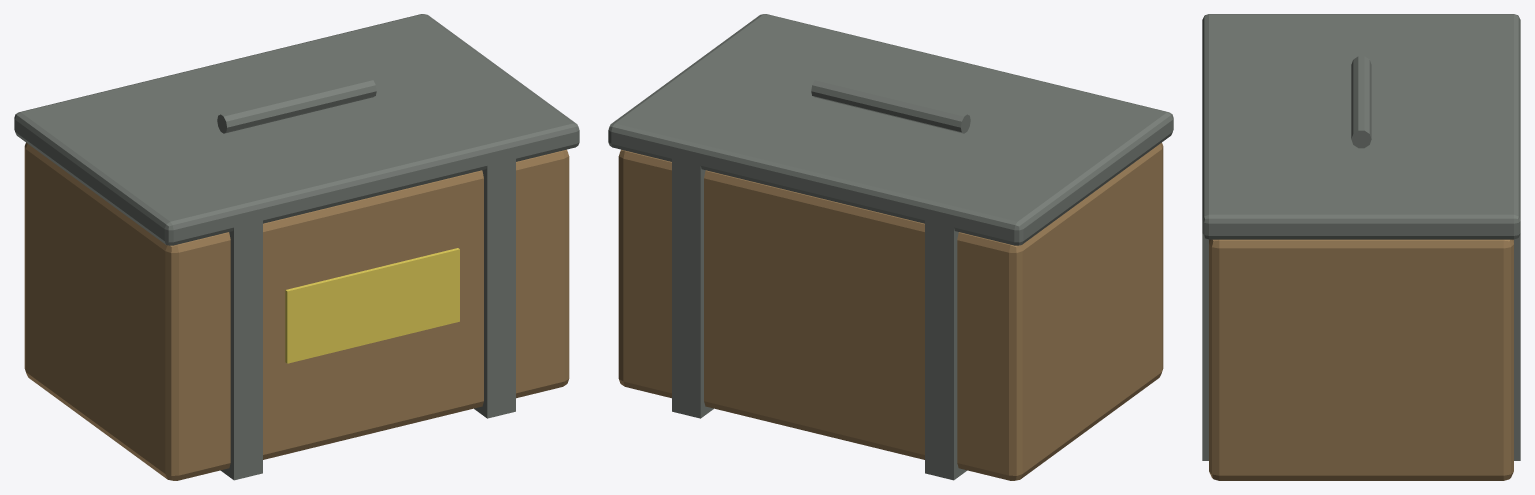
File: ammo_crate.glb
3 renders of one model, left to right at view 1: azimuth 30°, elevation 25°; view 2: azimuth 150°, elevation 25°; view 3: azimuth 270°, elevation 25°, orthographic.
Parts seen in each view (by area): view 1: ammo_crate; view 2: ammo_crate; view 3: ammo_crate.
Part boxes in pixels (x1,y1,x2,y2): ammo_crate: [14, 14, 579, 480]; ammo_crate: [608, 14, 1173, 480]; ammo_crate: [1202, 14, 1520, 480].
Size of the model in its own units: 0.72 by 0.4843 by 0.47.
